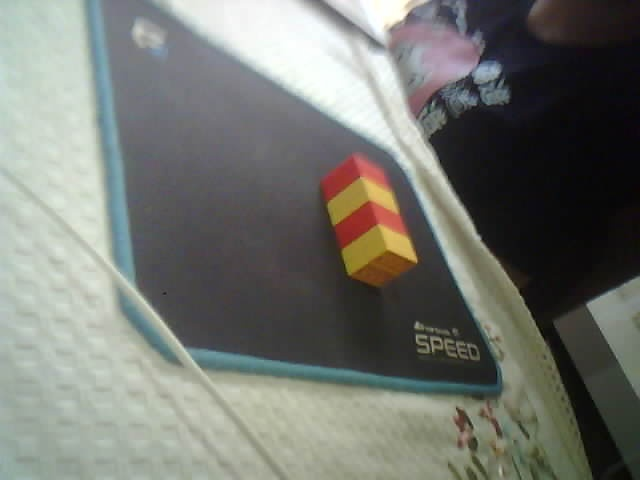lego: (320, 151, 418, 289)
